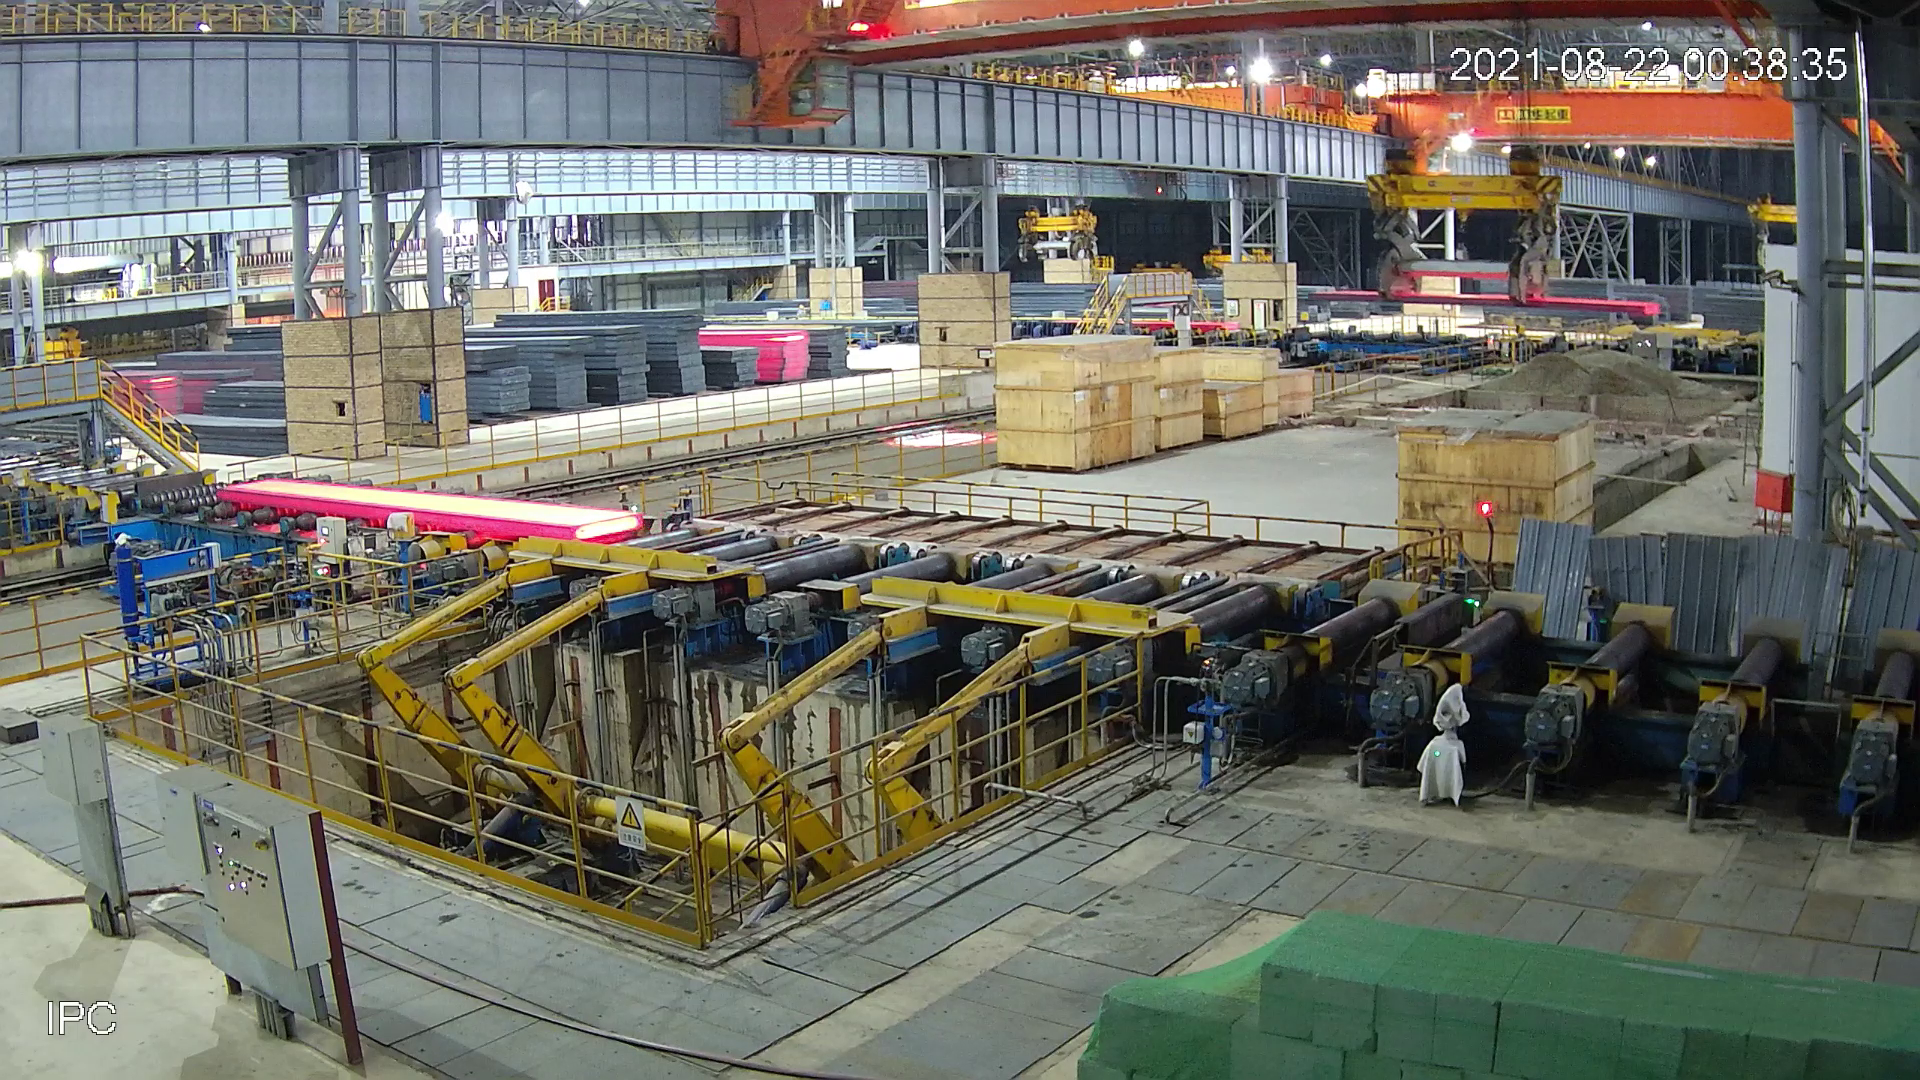craneandslab: (1288, 84, 1681, 334)
slab: (212, 473, 647, 549)
